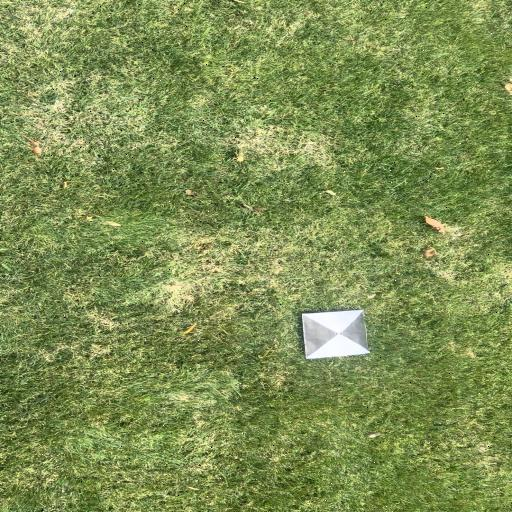target: (305, 310, 371, 358)
